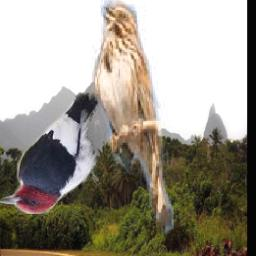Sparrow: (93, 0, 175, 235)
Woodpecker: (0, 92, 99, 214)
